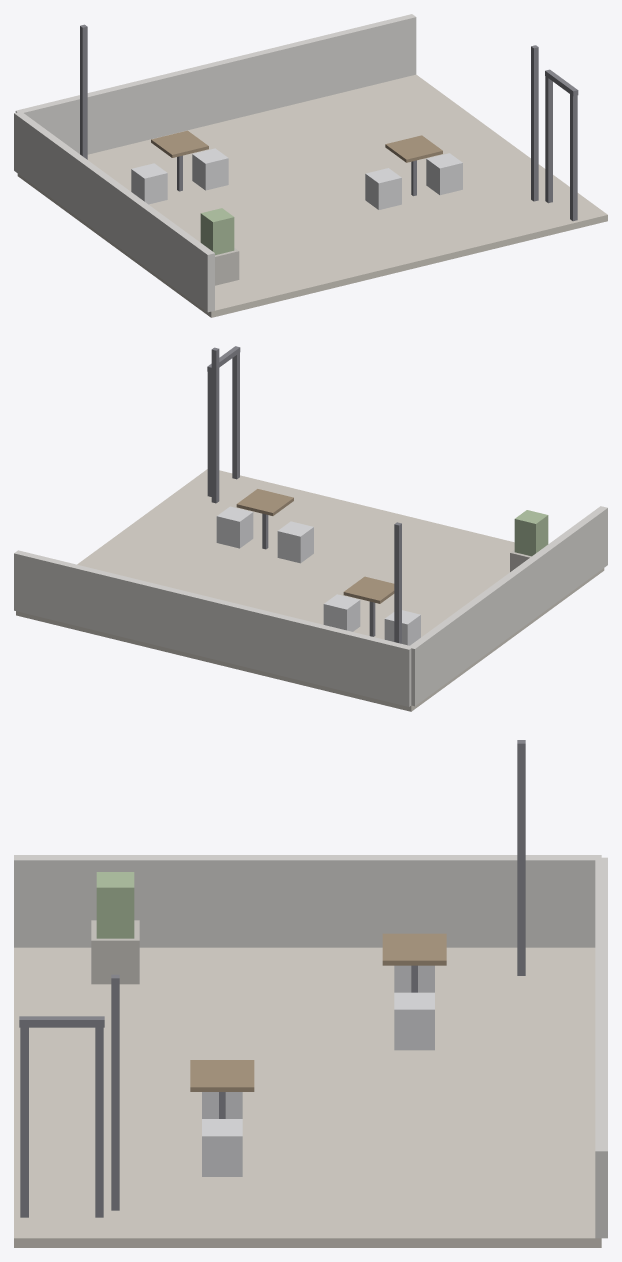
File: scene-cafe-terrace.glb
3 renders of one model, top to bottom at view 1: azimuth 30°, elevation 25°; view 2: azimuth 150°, elevation 25°; view 3: azimuth 270°, elevation 25°, orthographic. The views are drawn at different scales.
Visible parts, largest first — view 1: floor, parapet_back, parapet_left, planter_leaf_0, patio_chair_0_1, patio_chair_1_1, patio_chair_1_0, patio_chair_0_0, string_light_pole_1, string_light_pole_0, gate_post_l, gate_post_r (+3 smaller); view 2: floor, parapet_back, parapet_left, string_light_pole_1, planter_leaf_0, patio_chair_1_1, patio_chair_1_0, patio_chair_0_1, gate_post_l, patio_table_1, string_light_pole_0, patio_table_0 (+2 smaller); view 3: floor, parapet_left, parapet_back, planter_leaf_0, planter_0, patio_chair_0_1, patio_chair_1_1, patio_table_0, string_light_pole_1, string_light_pole_0, patio_table_1, gate_post_l (+4 smaller).
Part boxes in pixels (x1,y1,x2,y2): floor: [17, 74, 607, 317]; parapet_back: [15, 14, 416, 154]; parapet_left: [14, 112, 214, 312]; planter_leaf_0: [200, 208, 234, 255]; patio_chair_0_1: [192, 148, 228, 190]; patio_chair_1_1: [426, 153, 462, 195]; patio_chair_1_0: [365, 168, 401, 209]; patio_chair_0_0: [131, 163, 167, 204]; string_light_pole_1: [531, 45, 538, 201]; string_light_pole_0: [80, 24, 87, 159]; gate_post_l: [570, 92, 577, 221]; gate_post_r: [545, 73, 552, 203]; floor: [16, 469, 604, 711]; parapet_back: [14, 550, 412, 706]; parapet_left: [410, 506, 607, 706]; string_light_pole_1: [211, 347, 219, 503]; planter_leaf_0: [514, 510, 548, 556]; patio_chair_1_1: [216, 506, 253, 548]; patio_chair_1_0: [277, 521, 313, 563]; patio_chair_0_1: [323, 594, 360, 631]; gate_post_l: [232, 350, 239, 479]; patio_table_1: [236, 489, 293, 515]; string_light_pole_0: [394, 522, 401, 643]; patio_table_0: [343, 576, 394, 603]; floor: [14, 947, 601, 1247]; parapet_left: [14, 855, 601, 947]; parapet_back: [595, 857, 607, 1238]; planter_leaf_0: [96, 872, 134, 938]; planter_0: [91, 920, 139, 984]; patio_chair_0_1: [394, 992, 434, 1050]; patio_chair_1_1: [202, 1119, 242, 1176]; patio_table_0: [382, 933, 446, 965]; string_light_pole_1: [111, 974, 119, 1210]; string_light_pole_0: [517, 740, 525, 975]; patio_table_1: [190, 1060, 254, 1091]; gate_post_l: [20, 1024, 28, 1217].
Size of the model in its own units: 6.56 by 2.5 by 5.56.
